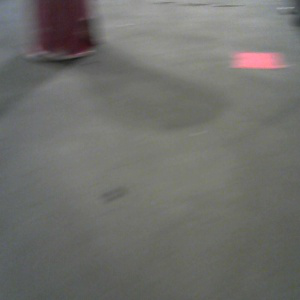middle: (25, 1, 101, 61)
